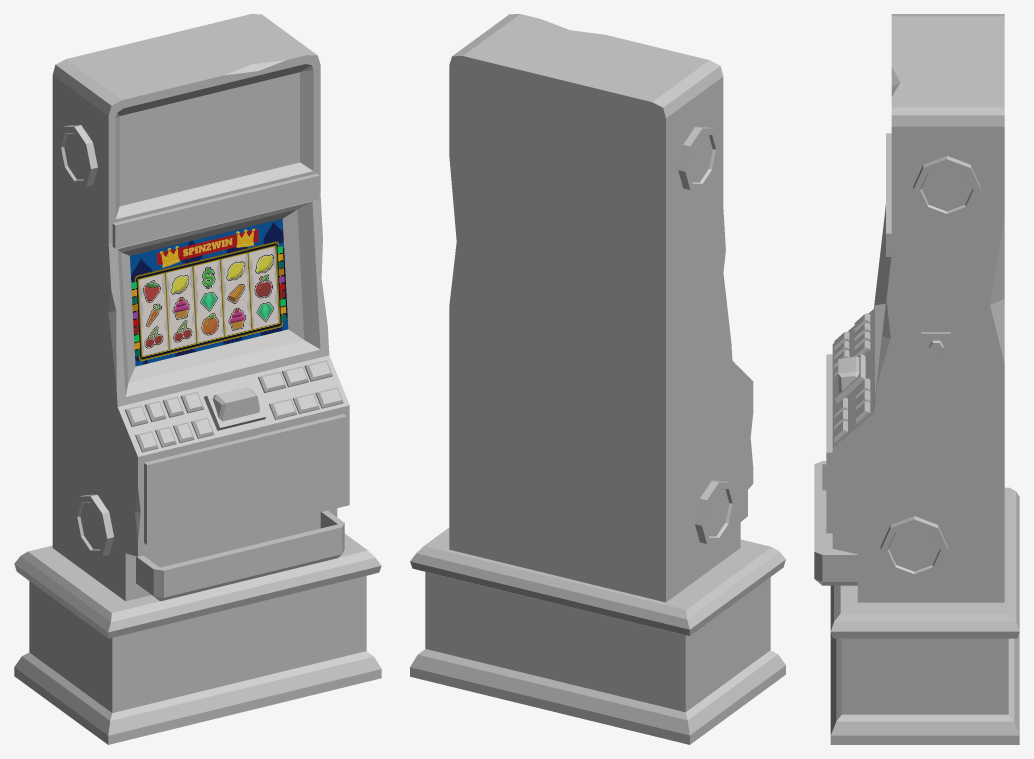
Rendered from SM_Prop_Slot_Machine_03.fbx.
The picture shows the model from 3 angles, left to right: view 1: azimuth 30°, elevation 25°; view 2: azimuth 150°, elevation 25°; view 3: azimuth 270°, elevation 25°; orthographic projection. The views are drawn at different scales.
Parts seen in each view (by area): view 1: SM_Prop_Slot_Machine_03; view 2: SM_Prop_Slot_Machine_03; view 3: SM_Prop_Slot_Machine_03.
Part boxes in pixels (box(x1,y1,x2,y2)): SM_Prop_Slot_Machine_03: box(14, 14, 381, 744); SM_Prop_Slot_Machine_03: box(410, 14, 785, 744); SM_Prop_Slot_Machine_03: box(814, 14, 1019, 744).
Size of the model in its own units: 100 by 214 by 64.67.
